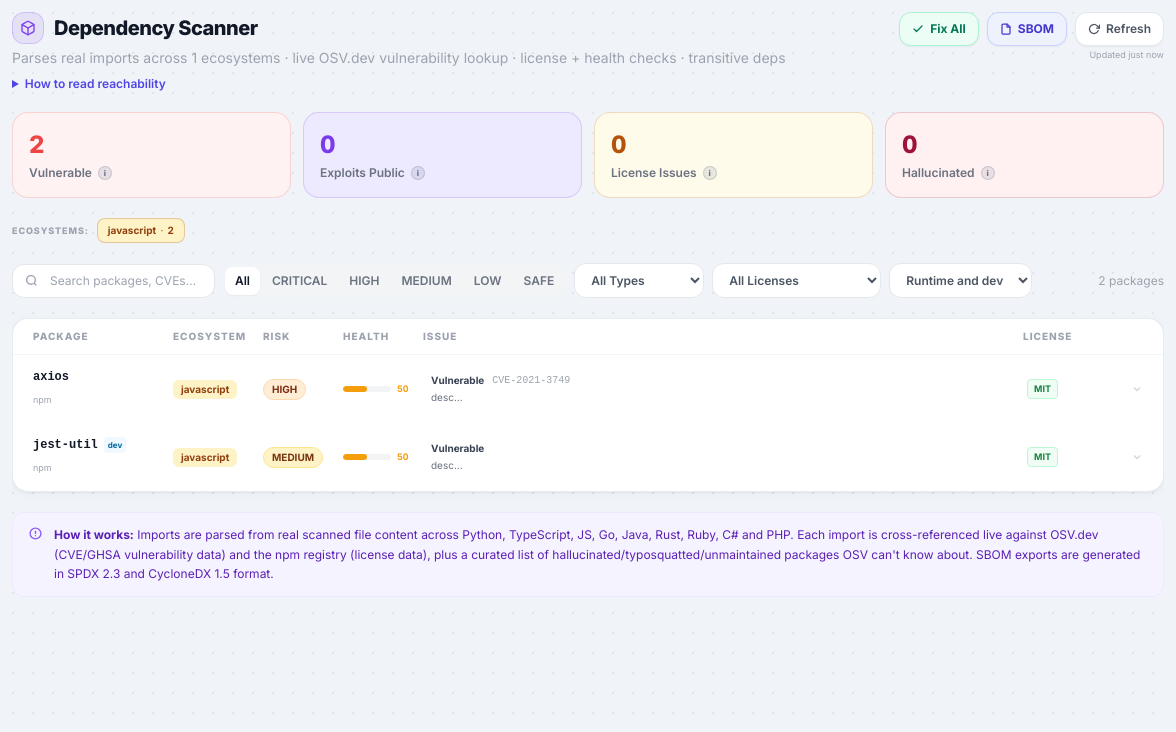
Dependencies page › dev dependencies are marked and can be filtered out
Expected: the text "jest-util" is shown, left=33, top=437, right=98, bottom=453
Expected: the text titled "Only used to develop" is shown, left=108, top=440, right=122, bottom=450
Select "Runtime only" in the dropdown named "Scope" at point(961, 280), box left=889, top=263, right=1032, bottom=298
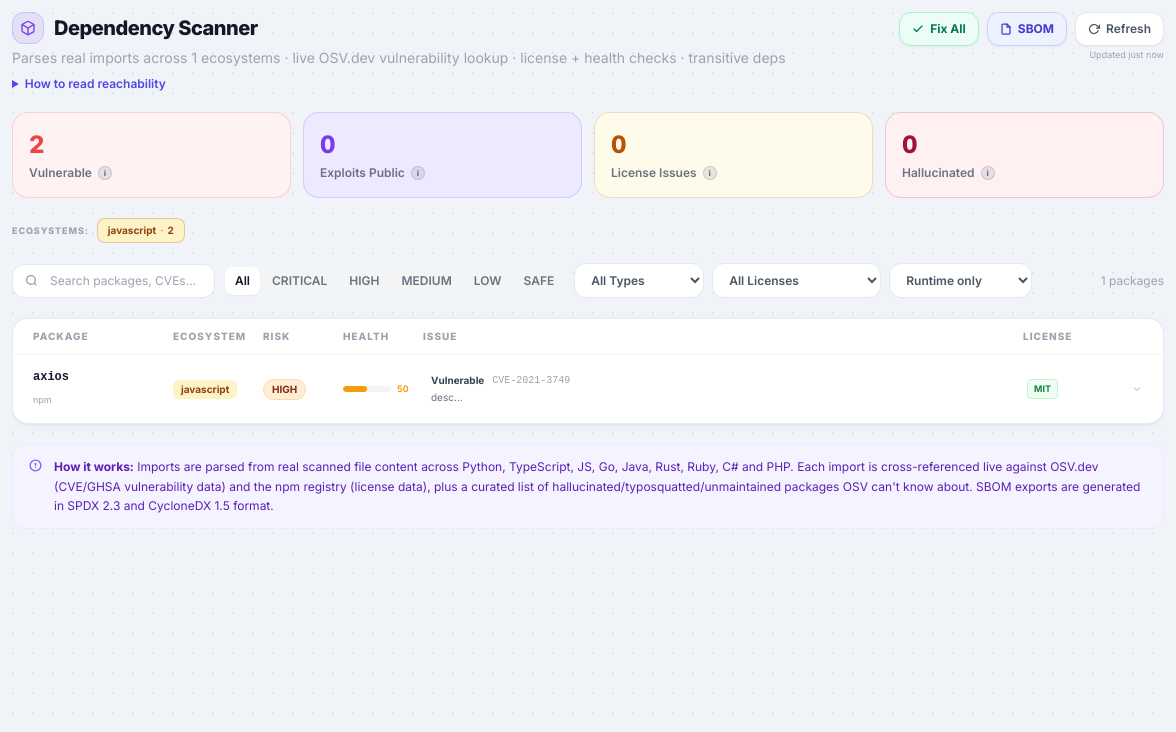
Expected: the text "axios" is shown, left=33, top=369, right=69, bottom=385
Expected: the text "jest-util" is gone
